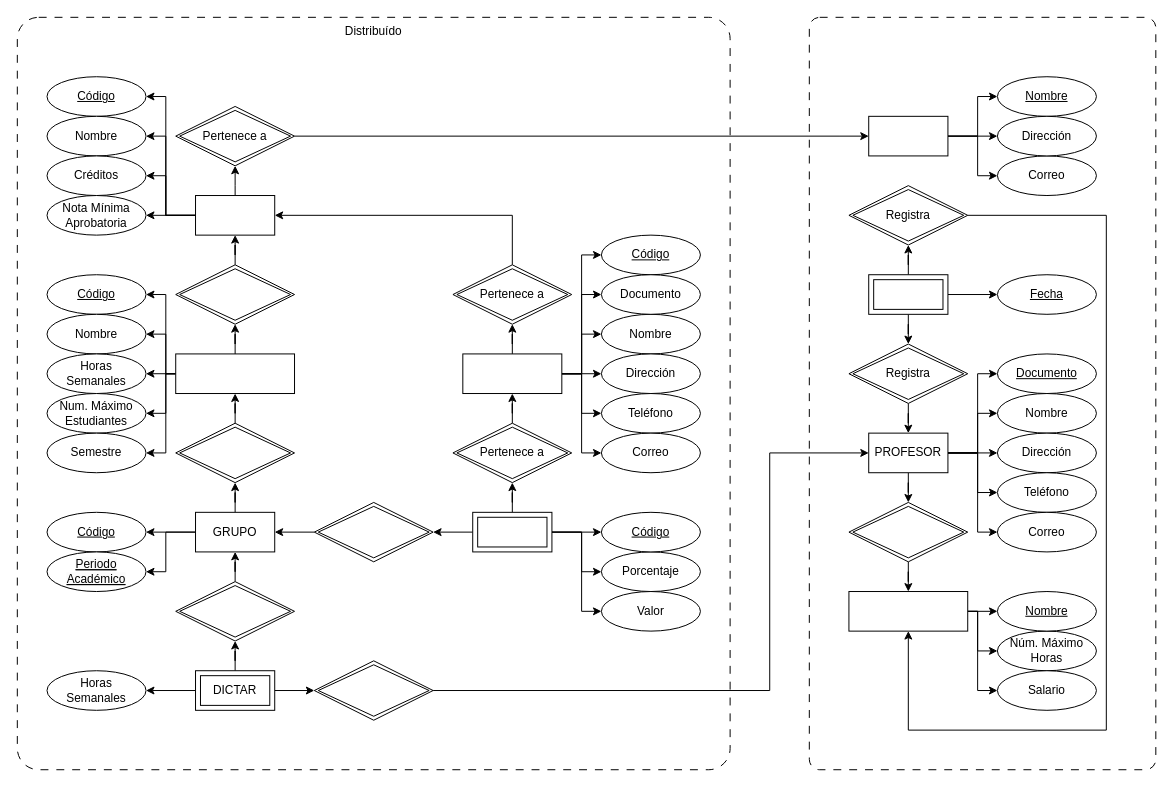
Image size: 1173x787. Some labels were removed from this diagram. Here are the shapes that lost their labels. From the top down, the box of each, then its label:
(868, 115, 948, 156): Sede
(195, 195, 275, 235): PREGRADO
(175, 264, 295, 324): Compone
(868, 274, 948, 314): PAGAR
(175, 353, 295, 394): ASIGNATURA
(462, 353, 562, 394): ESTUDIANTE
(808, 16, 1156, 770): Centralizado
(175, 422, 295, 483): Realiza
(313, 501, 433, 562): Califica en
(472, 511, 552, 552): CALIFICAR
(848, 501, 968, 562): Tiene
(175, 581, 295, 641): Asigna
(848, 591, 968, 631): CLASIFICACIÓN
(313, 660, 433, 720): Incluye
